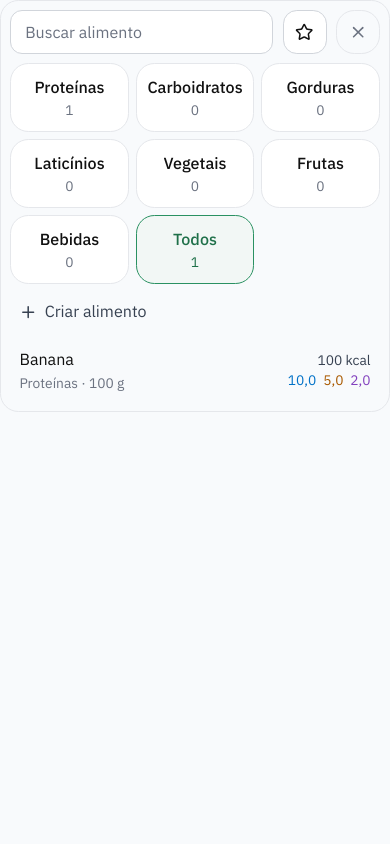
Scenario: creating a food without leaving the picker › carries the search text into the name field
The image size is (390, 844).
Type "Whey caseiro" into the search field named "Buscar alimento para adicionar".
click(142, 32); type("Whey caseiro")  # box [10,10,274,54]
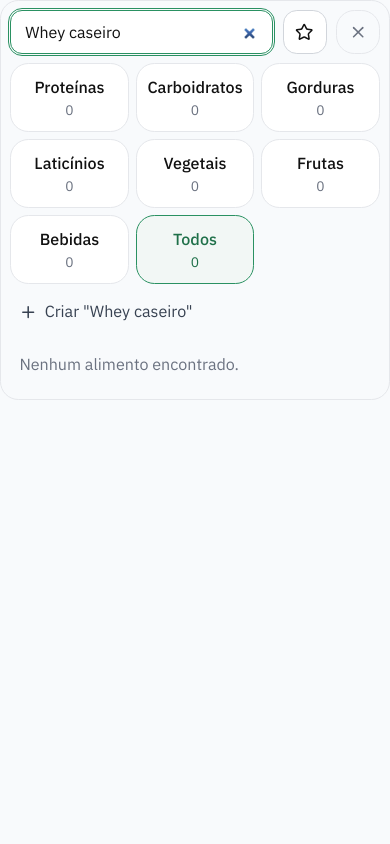
Click the button "Criar \"Whey caseiro\"".
click(195, 312)  # box [10,293,380,330]
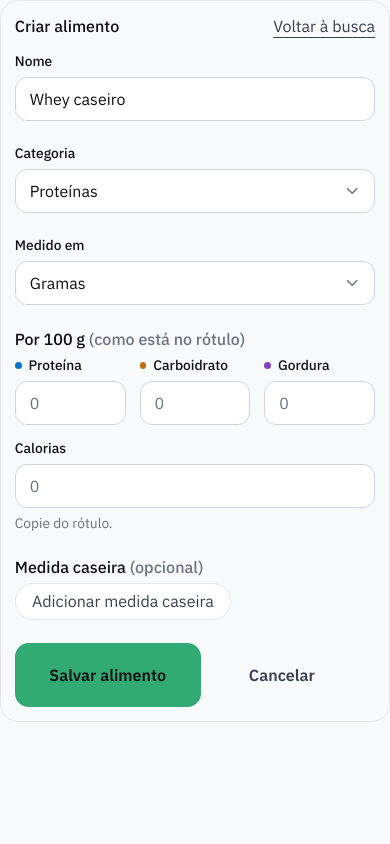
Now the field labelled "Nome" holds "Whey caseiro", box [15,77,375,121]
